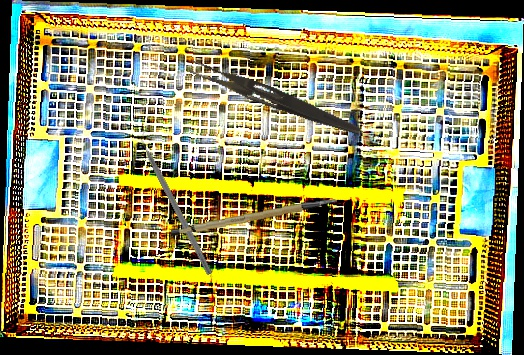Chopper: (135, 127, 221, 276)
Dressing Forceps: (186, 59, 364, 138)
Scalpel Handle: (169, 197, 339, 240)
